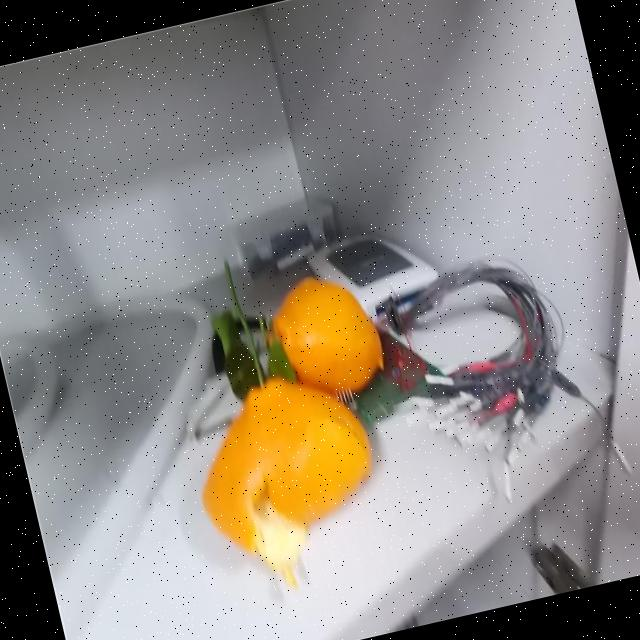orange-peel: (175, 356, 398, 600)
